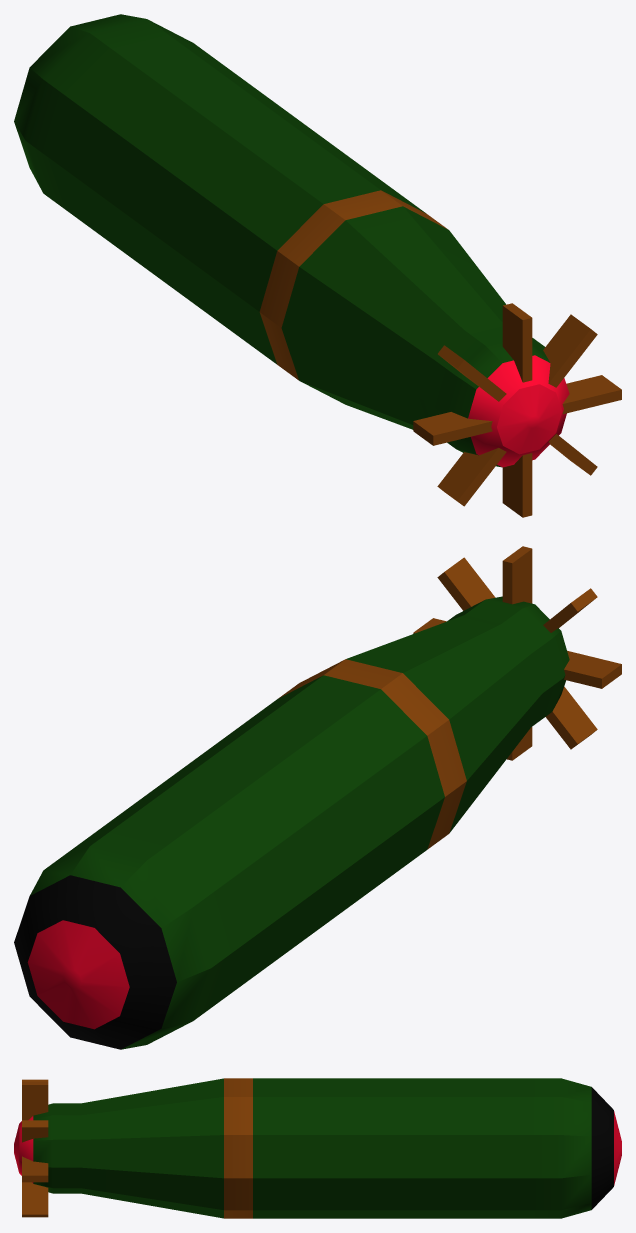
File: Torpedo_full.fbx
3 renders of one model, top to bottom at view 1: azimuth 30°, elevation 25°; view 2: azimuth 150°, elevation 25°; view 3: azimuth 270°, elevation 25°, orthographic. The views are drawn at different scales.
Parts seen in each view (by area): view 1: Torpedo_full; view 2: Torpedo_full; view 3: Torpedo_full.
Part boxes in pixels (<box>): Torpedo_full: <box>14,14,621,517</box>; Torpedo_full: <box>14,546,621,1049</box>; Torpedo_full: <box>14,1078,621,1218</box>.
Bounding box in the file's own units: 25.1 × 25.1 × 106.
